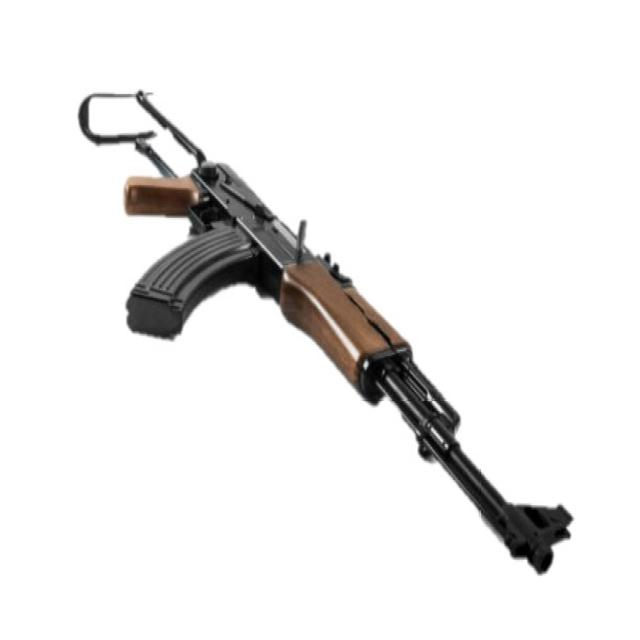rifle: (80, 80, 584, 586)
